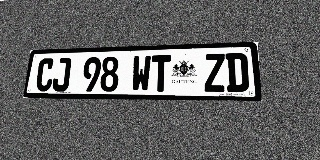8: (100, 56, 120, 92)
9: (82, 57, 102, 92)
C: (35, 58, 55, 91)
D: (226, 53, 249, 92)
J: (51, 58, 72, 91)
T: (151, 55, 171, 92)
W: (131, 55, 151, 92)
Z: (204, 53, 226, 92)
